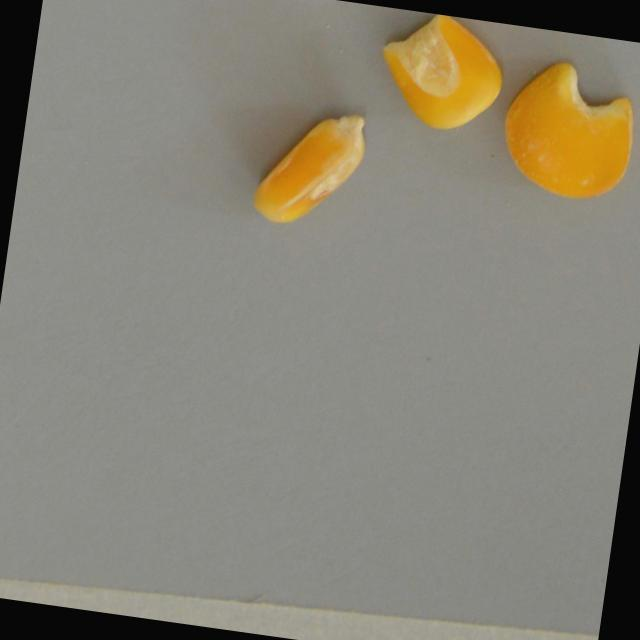entero: (241, 95, 372, 241)
no_canjicado: (489, 52, 640, 208)
no_desgerminado: (365, 6, 515, 146)
